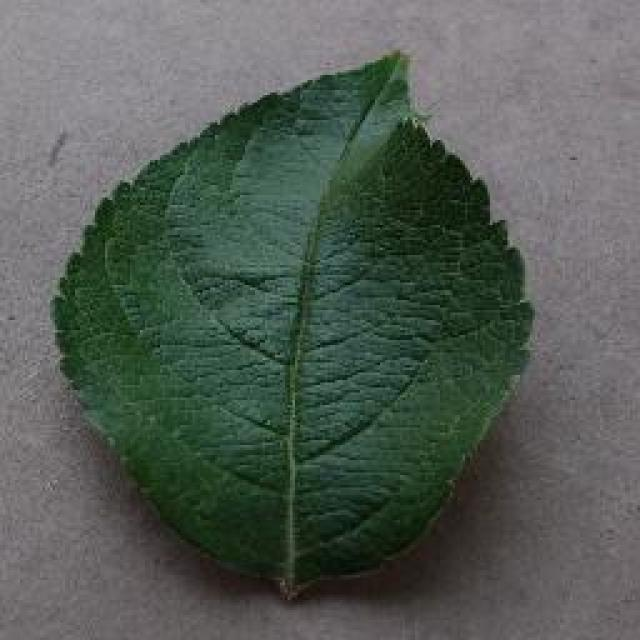apple scab disease: (47, 45, 535, 600)
